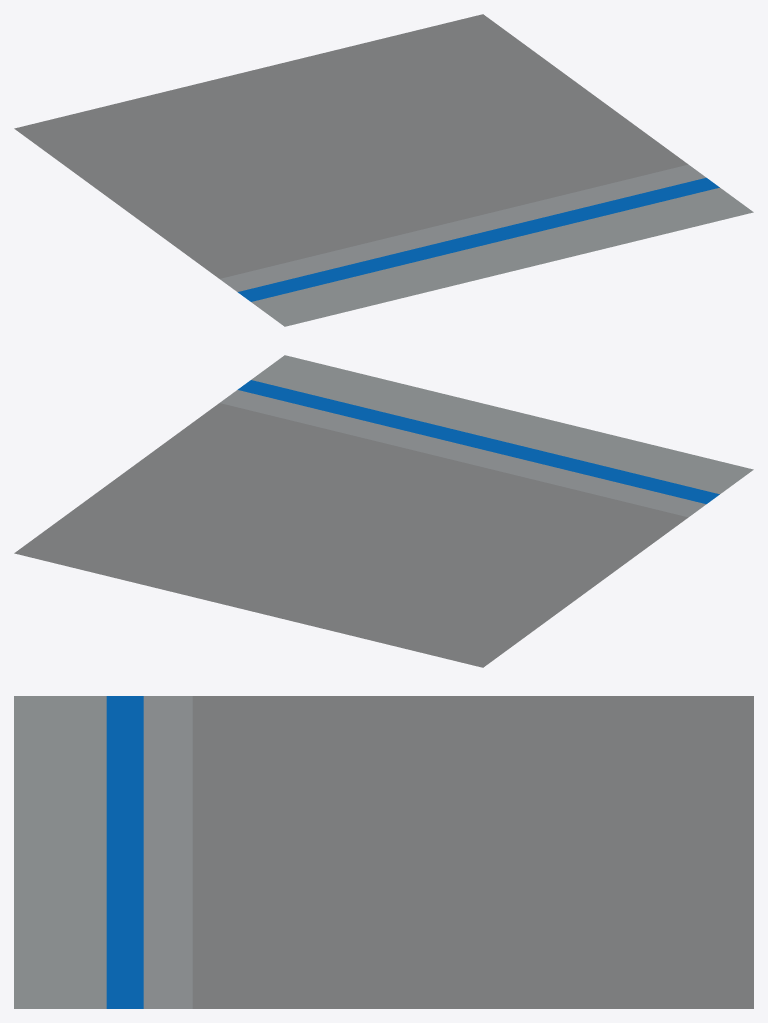
Rendered from Ceiling_type_B_002.fbx.
The picture shows the model from 3 angles, top to bottom: view 1: azimuth 30°, elevation 25°; view 2: azimuth 150°, elevation 25°; view 3: azimuth 270°, elevation 25°; orthographic projection. The views are drawn at different scales.
Parts seen in each view (by area): view 1: Ceiling_type_B_002; view 2: Ceiling_type_B_002; view 3: Ceiling_type_B_002.
Part boxes in pixels (x1=…): Ceiling_type_B_002: x1=14, y1=14, x2=753, y2=326; Ceiling_type_B_002: x1=14, y1=355, x2=753, y2=667; Ceiling_type_B_002: x1=14, y1=696, x2=753, y2=1008.
Bounding box in the file's own units: 400 × 400 × 4.55.
